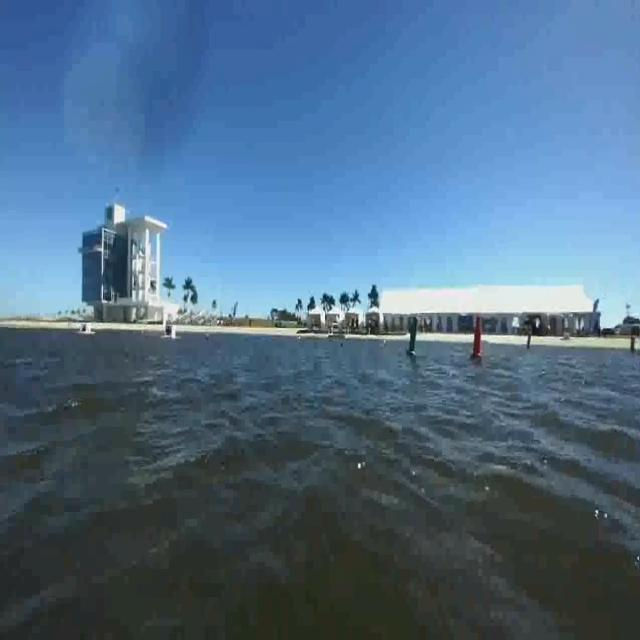green-column-buoy: (408, 316, 420, 358)
red-column-buoy: (471, 310, 483, 367)
